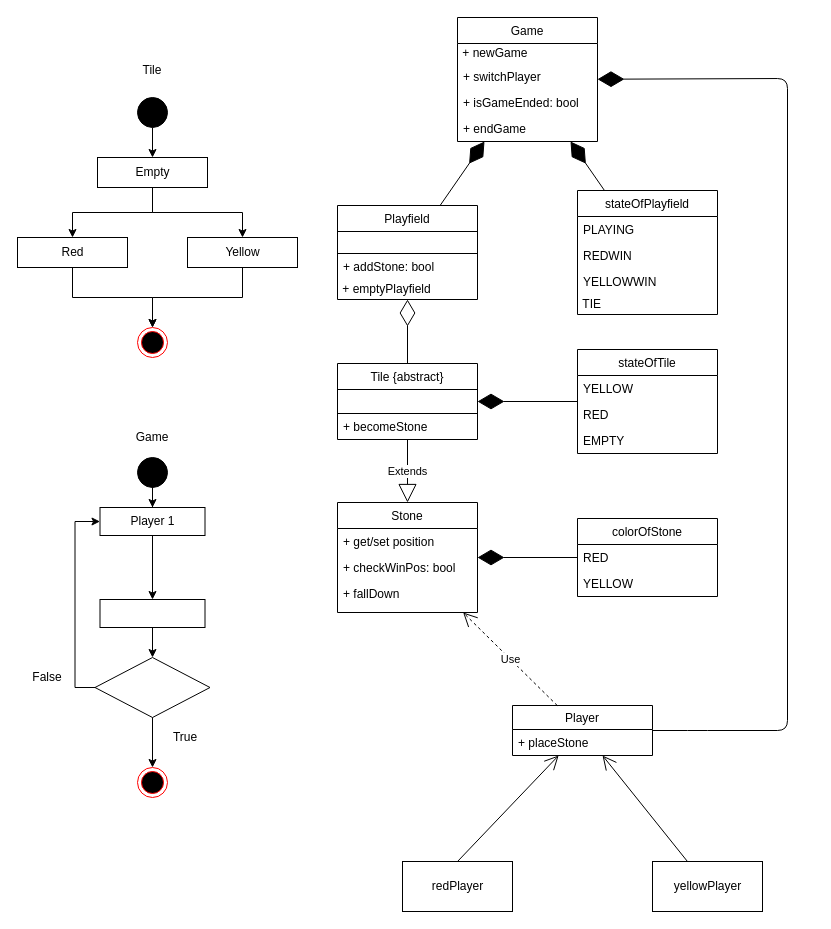
The diagram is 831 pixels wide and 929 high, and some of its shapes have lost their labels. Here are the shapes that lost their labels. From the top down, the centre of each, then its label:
point (407, 242): + int cols, rows
point (407, 401): + int x, y
point (152, 613): Player 2
point (152, 687): Game ended?
